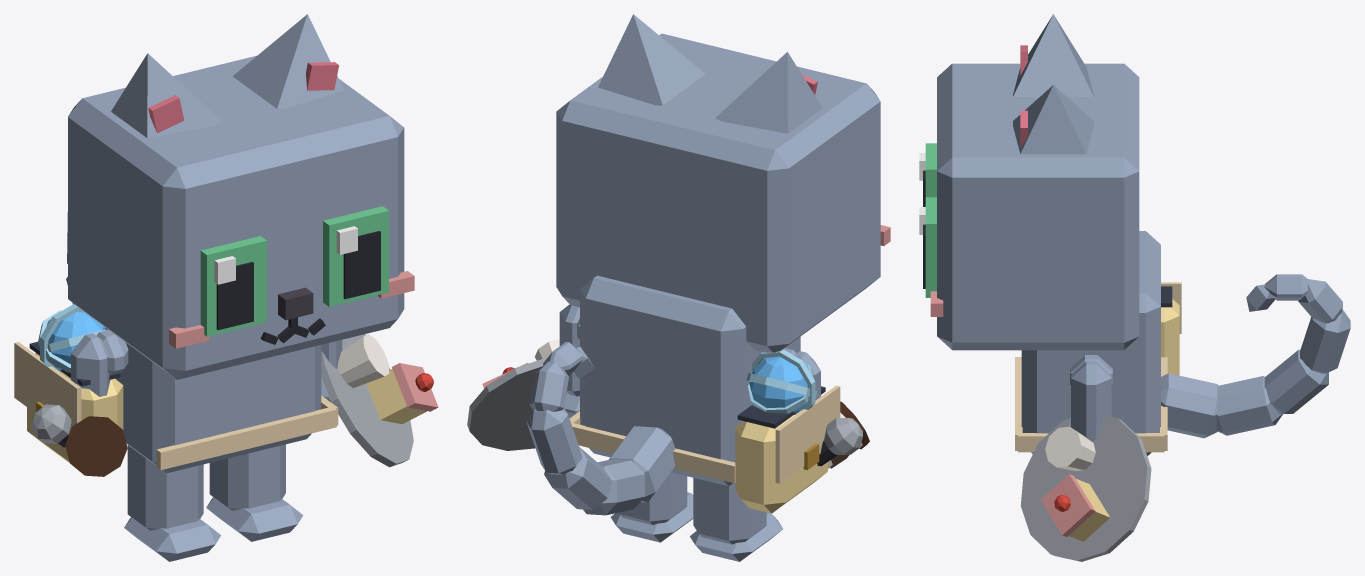
The model's file is CatCafe_Cat_Blue_Work.glb.
The picture shows the model from 3 angles, left to right: view 1: azimuth 30°, elevation 25°; view 2: azimuth 150°, elevation 25°; view 3: azimuth 270°, elevation 25°; orthographic projection. The views are drawn at different scales.
Visible parts, largest first — view 1: CatCafe_Cat_Blue_Work_Head, CatCafe_Cat_Blue_Work_Body, CatCafe_Cat_Blue_Work_Held_Waiter, CatCafe_Cat_Blue_Work_LegB2, CatCafe_Cat_Blue_Work_LegB1, CatCafe_Cat_Blue_Work_Eye2, CatCafe_Cat_Blue_Work_Eye1, CatCafe_Cat_Blue_Work_EarL, CatCafe_Cat_Blue_Work_EarR, CatCafe_Cat_Blue_Work_Held_Barista, CatCafe_Cat_Blue_Work_LegF2, CatCafe_Cat_Blue_Work_Held_Entertainer; view 2: CatCafe_Cat_Blue_Work_Head, CatCafe_Cat_Blue_Work_Body, CatCafe_Cat_Blue_Work_Tail, CatCafe_Cat_Blue_Work_EarL, CatCafe_Cat_Blue_Work_LegB2, CatCafe_Cat_Blue_Work_Held_Waiter, CatCafe_Cat_Blue_Work_EarR, CatCafe_Cat_Blue_Work_LegB1, CatCafe_Cat_Blue_Work_Held_Entertainer, CatCafe_Cat_Blue_Work_LegF1; view 3: CatCafe_Cat_Blue_Work_Head, CatCafe_Cat_Blue_Work_Body, CatCafe_Cat_Blue_Work_Held_Waiter, CatCafe_Cat_Blue_Work_Tail, CatCafe_Cat_Blue_Work_EarL, CatCafe_Cat_Blue_Work_EarR, CatCafe_Cat_Blue_Work_LegF1, CatCafe_Cat_Blue_Work_Eye1, CatCafe_Cat_Blue_Work_Eye2.
Boxes of the visible parts, x1=… form: CatCafe_Cat_Blue_Work_Head: x1=68, y1=55, x2=414, y2=379; CatCafe_Cat_Blue_Work_Body: x1=14, y1=304, x2=338, y2=473; CatCafe_Cat_Blue_Work_Held_Waiter: x1=321, y1=334, x2=438, y2=467; CatCafe_Cat_Blue_Work_LegB2: x1=124, y1=445, x2=220, y2=561; CatCafe_Cat_Blue_Work_LegB1: x1=206, y1=444, x2=302, y2=541; CatCafe_Cat_Blue_Work_Eye2: x1=200, y1=236, x2=266, y2=336; CatCafe_Cat_Blue_Work_Eye1: x1=323, y1=206, x2=388, y2=306; CatCafe_Cat_Blue_Work_EarL: x1=232, y1=14, x2=343, y2=108; CatCafe_Cat_Blue_Work_EarR: x1=111, y1=53, x2=222, y2=138; CatCafe_Cat_Blue_Work_Held_Barista: x1=65, y1=416, x2=127, y2=476; CatCafe_Cat_Blue_Work_LegF2: x1=71, y1=333, x2=110, y2=396; CatCafe_Cat_Blue_Work_Held_Entertainer: x1=31, y1=404, x2=71, y2=447; CatCafe_Cat_Blue_Work_Head: x1=556, y1=33, x2=890, y2=352; CatCafe_Cat_Blue_Work_Body: x1=569, y1=275, x2=840, y2=513; CatCafe_Cat_Blue_Work_Tail: x1=526, y1=342, x2=675, y2=515; CatCafe_Cat_Blue_Work_EarL: x1=598, y1=14, x2=705, y2=105; CatCafe_Cat_Blue_Work_LegB2: x1=690, y1=478, x2=782, y2=561; CatCafe_Cat_Blue_Work_Held_Waiter: x1=467, y1=338, x2=559, y2=450; CatCafe_Cat_Blue_Work_EarR: x1=715, y1=52, x2=822, y2=133; CatCafe_Cat_Blue_Work_LegB1: x1=610, y1=472, x2=693, y2=542; CatCafe_Cat_Blue_Work_Held_Entertainer: x1=817, y1=418, x2=862, y2=466; CatCafe_Cat_Blue_Work_LegF1: x1=559, y1=304, x2=579, y2=418; CatCafe_Cat_Blue_Work_Head: x1=930, y1=63, x2=1139, y2=350; CatCafe_Cat_Blue_Work_Body: x1=1015, y1=231, x2=1181, y2=455; CatCafe_Cat_Blue_Work_Held_Waiter: x1=1020, y1=416, x2=1151, y2=561; CatCafe_Cat_Blue_Work_Tail: x1=1161, y1=274, x2=1350, y2=438; CatCafe_Cat_Blue_Work_EarL: x1=1013, y1=85, x2=1093, y2=154; CatCafe_Cat_Blue_Work_EarR: x1=1013, y1=14, x2=1093, y2=96; CatCafe_Cat_Blue_Work_LegF1: x1=1071, y1=361, x2=1111, y2=441; CatCafe_Cat_Blue_Work_Eye1: x1=919, y1=197, x2=936, y2=297; CatCafe_Cat_Blue_Work_Eye2: x1=919, y1=143, x2=936, y2=206.
Bounding box in the file's own units: 1.53 × 1.93 × 1.62.
1 material, 1 textured.
